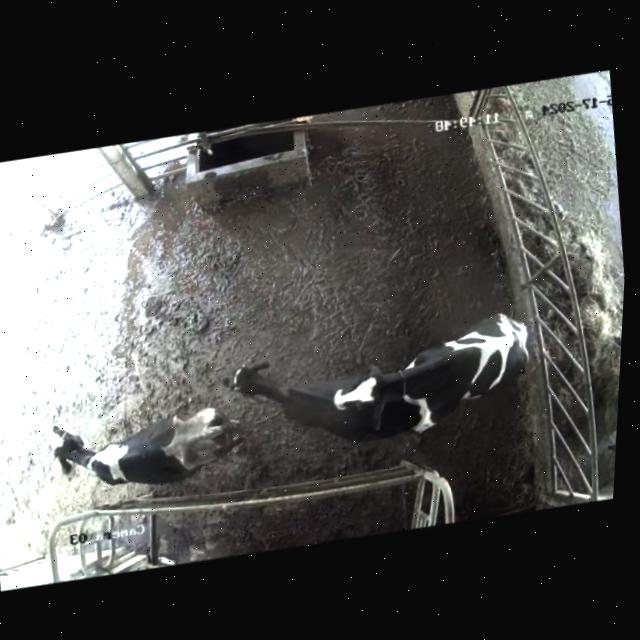ride: (306, 302, 549, 468)
stand: (28, 357, 242, 521), (216, 336, 381, 480)
